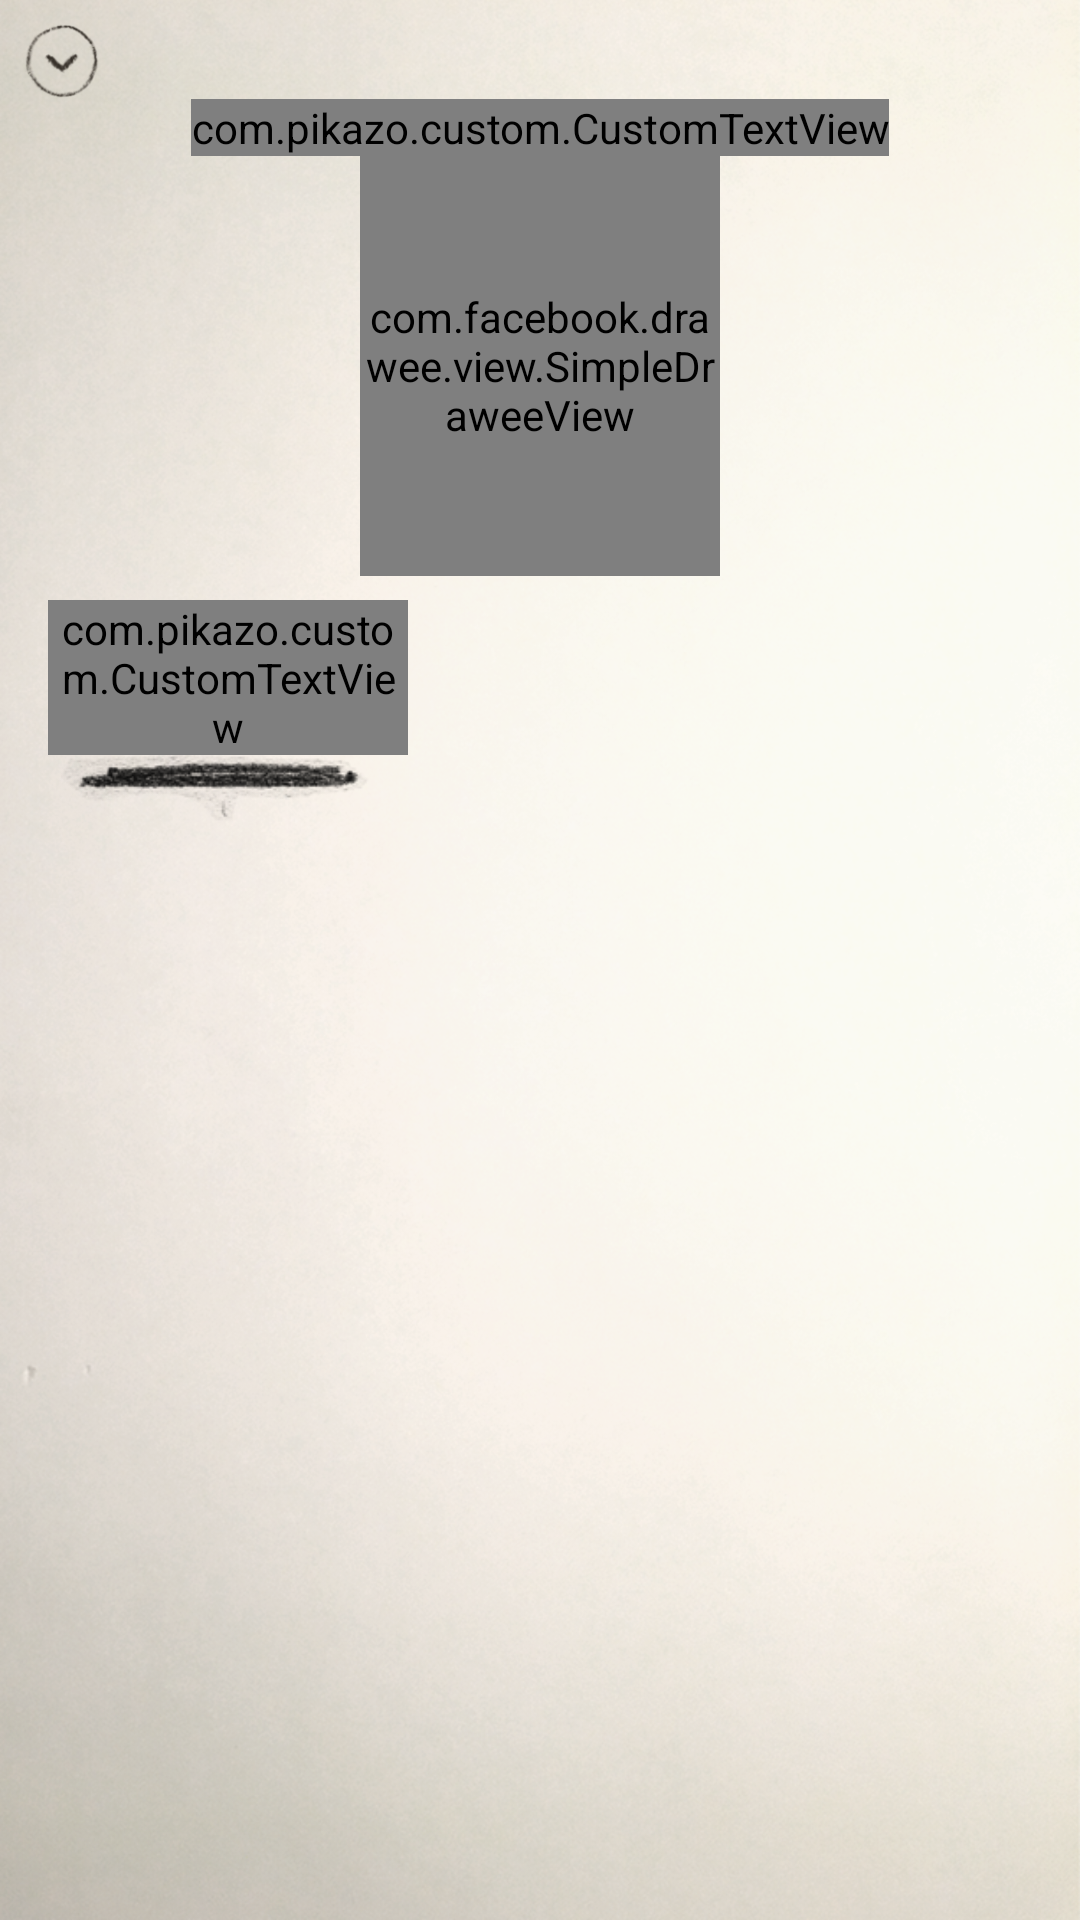

Locate icon controls on the screen. Image size 1080px x 1920px, boxes as [x1,y1,x2,y2].
dismiss sketch: [26,25,98,97]
